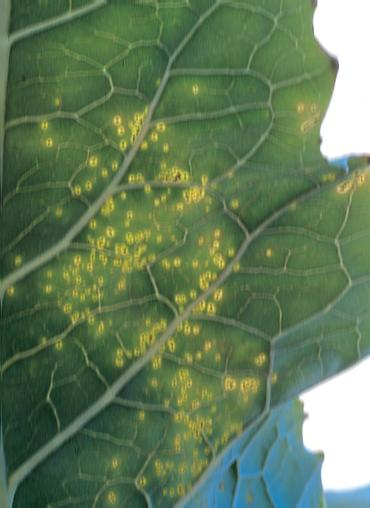Tomato leaf bacterial spot: (0, 0, 351, 508)
